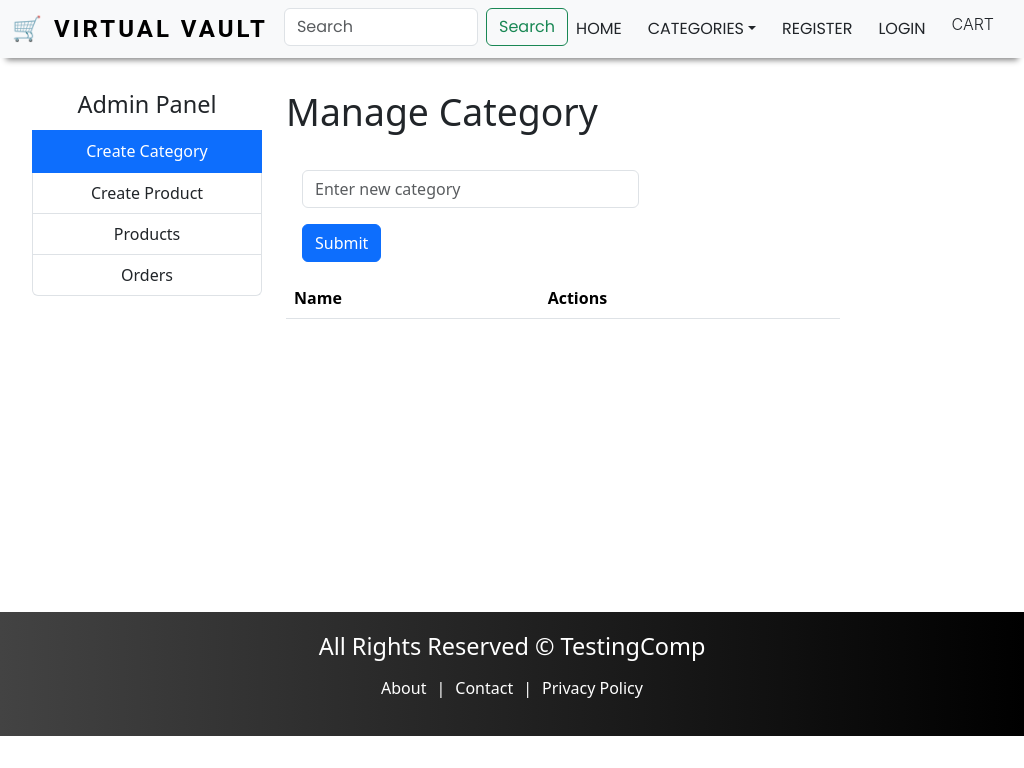
Scenario: handleSubmit() functionality › handleSubmit() creates new category with any input value
This screenshot has width=1024, height=768.
simulate value to be submitted & clicking of submit button
Step 1. Type "Plushie" into the field with placeholder "Enter new category" → (470, 188), box [302, 170, 639, 208]
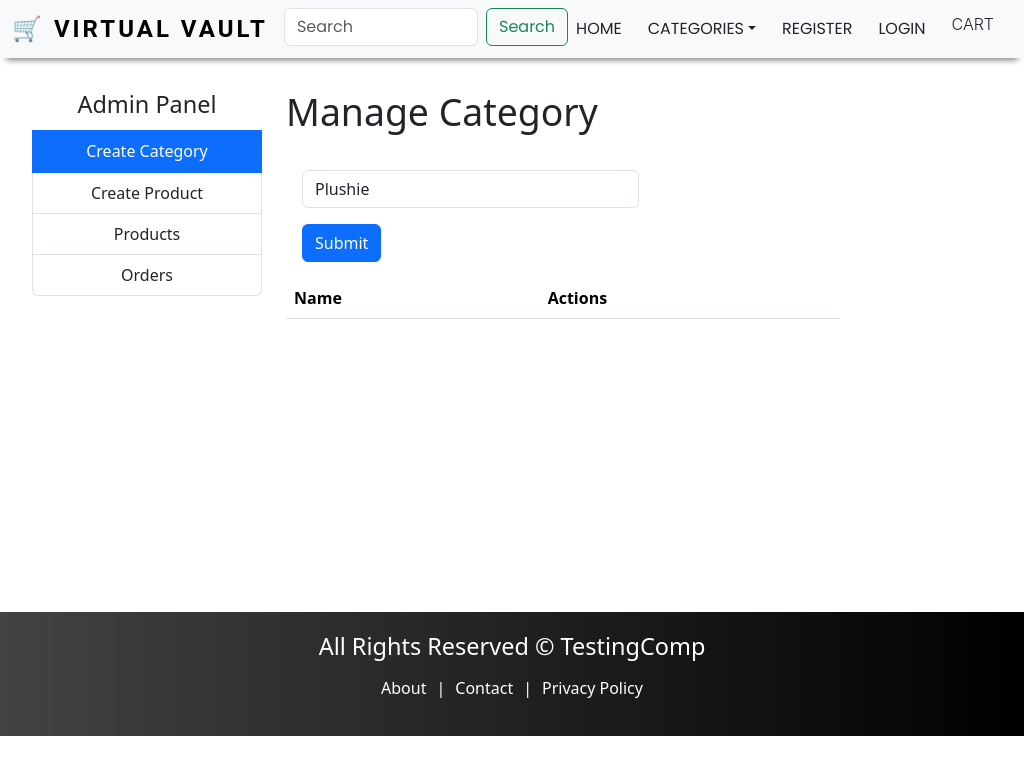
Step 2. Click the button "Submit" → (342, 242), box [302, 224, 381, 262]
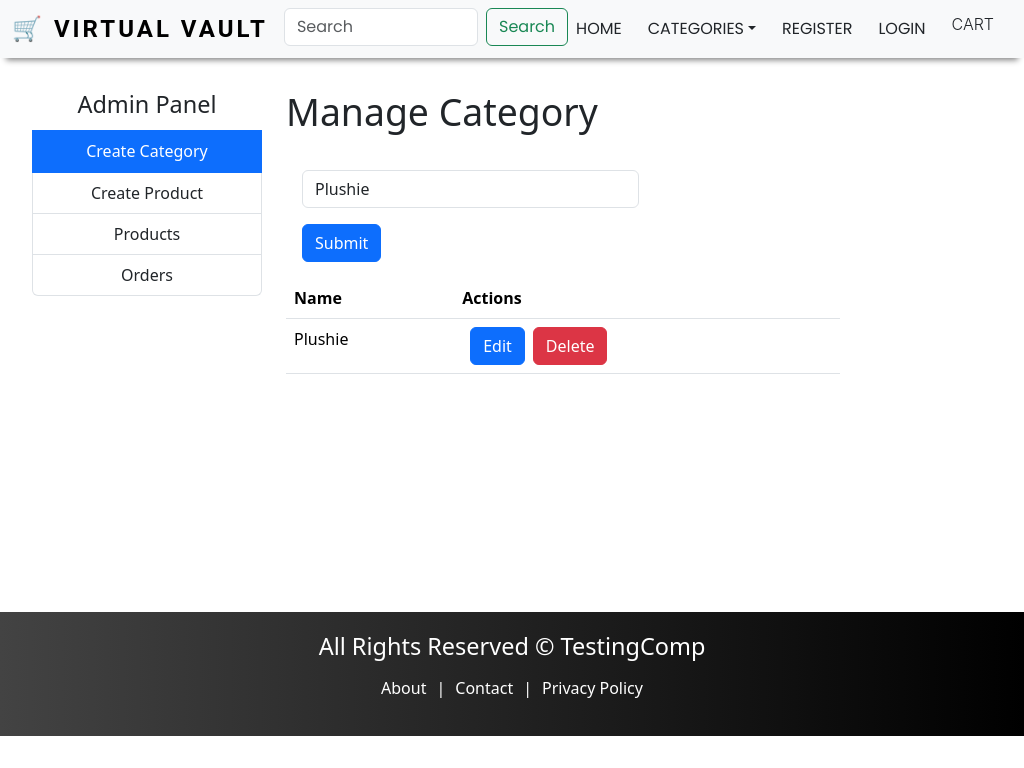
Now the text "Plushie" is shown, box [286, 318, 454, 373]
